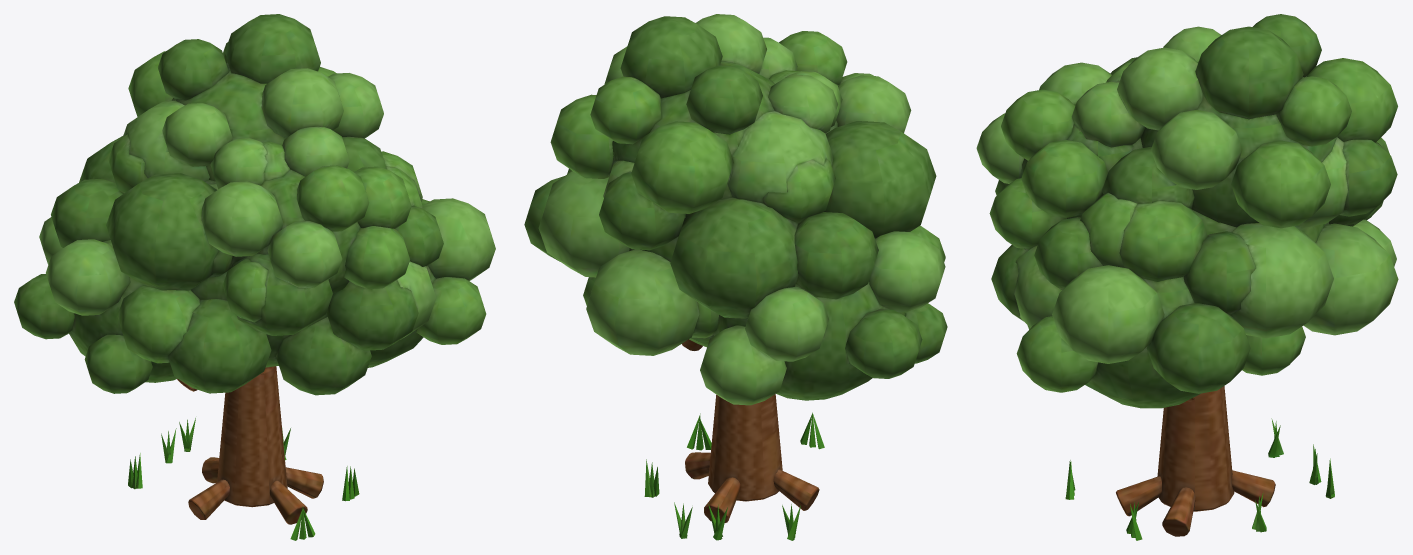
File: pistachio_tree.glb
3 views of the same model, side by side, from view 1: azimuth 30°, elevation 25°; view 2: azimuth 150°, elevation 25°; view 3: azimuth 270°, elevation 25° (orthographic). The views are drawn at different scales.
Visible parts, largest first — view 1: crown, pistachio_tree; view 2: crown, pistachio_tree; view 3: crown, pistachio_tree.
Part boxes in pixels (x1,y1,x2,y2): crown: (14, 14, 495, 395); pistachio_tree: (128, 366, 359, 540); crown: (524, 14, 947, 405); pistachio_tree: (644, 339, 824, 540); crown: (976, 14, 1398, 408); pistachio_tree: (1065, 386, 1334, 540).
Size of the model in its own units: 1.16 by 1.26 by 0.9609.
Materials: 1 (1 with a texture image).
